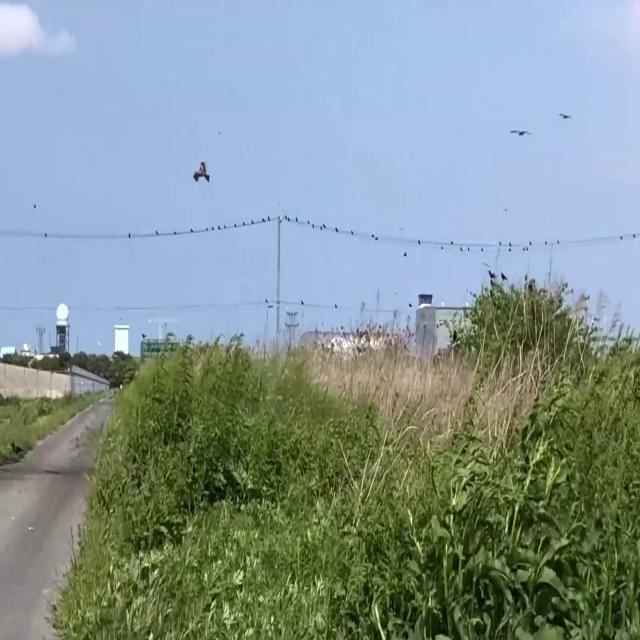bird: (508, 112, 532, 148), (192, 151, 211, 196), (558, 97, 572, 128)
